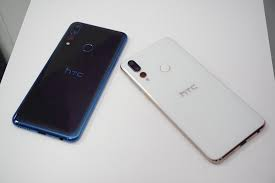htc: (117, 35, 267, 165), (5, 18, 129, 143)
